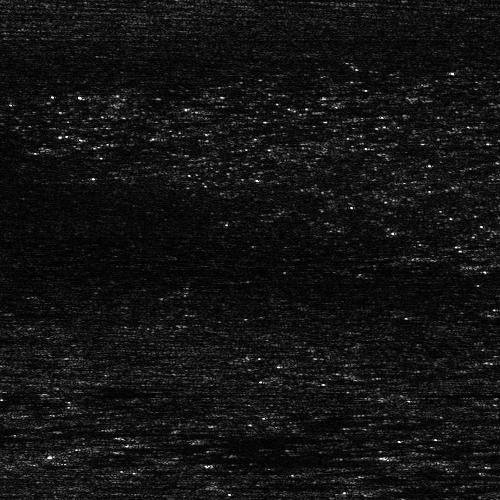rock: (320, 494, 413, 500), (362, 450, 435, 457), (68, 443, 79, 460)
shadow: (74, 443, 322, 460), (367, 494, 500, 500), (399, 450, 500, 457), (0, 497, 35, 500)
